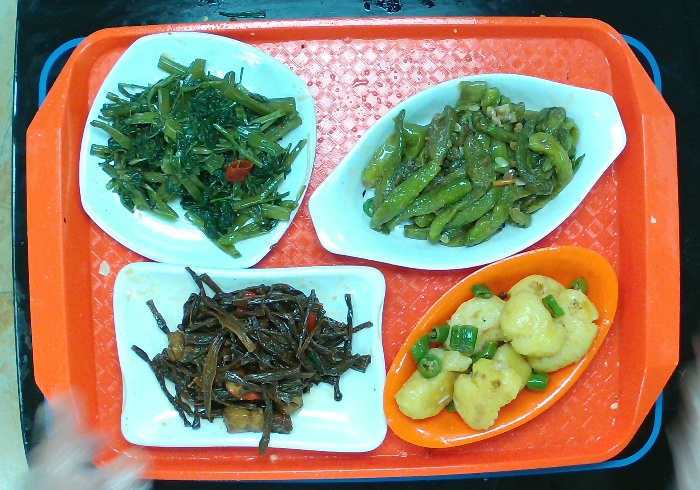RJxy-Ju_Huang_Tuo_Yuan: (379, 243, 616, 452)
RJxy-Si_Fang_Ao_Bian_Wan: (108, 261, 393, 458)
RJxy-Si_Fang_Die: (76, 29, 315, 278)
RJxy-Yu_Pan: (304, 71, 626, 268)
